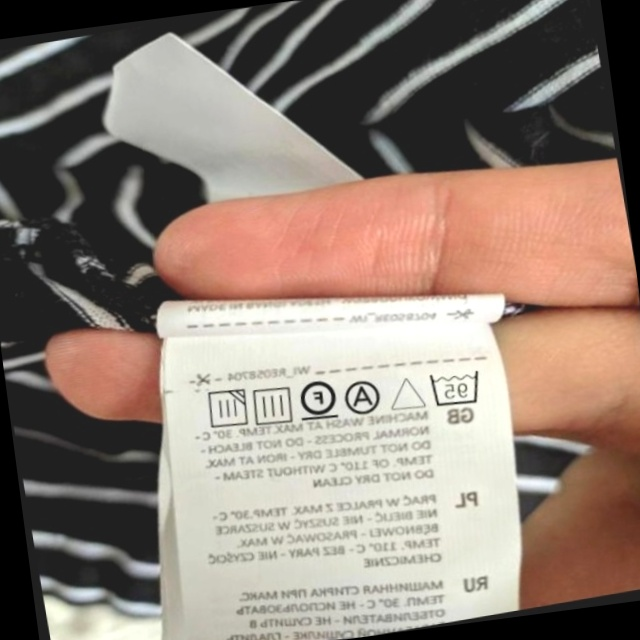95C: (423, 362, 486, 413)
bleach: (386, 368, 429, 417)
drip_dry: (246, 379, 299, 430)
drip_dry_in_shade: (198, 382, 252, 435)
dry_clean: (341, 375, 387, 419)
dry_clean_petrol_only: (293, 372, 342, 425)
